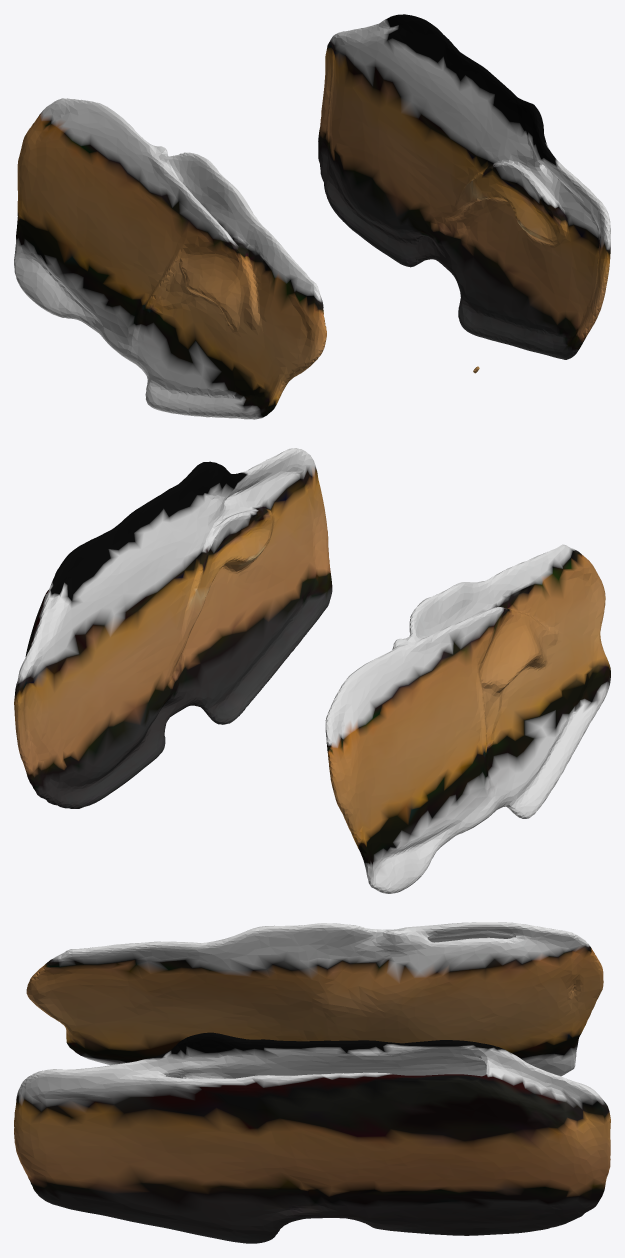
Rendered from sandals.glb.
3 views of the same model, one above another, from view 1: azimuth 30°, elevation 25°; view 2: azimuth 150°, elevation 25°; view 3: azimuth 270°, elevation 25° (orthographic). The views are drawn at different scales.
Visible parts, largest first — view 1: geometry_0; view 2: geometry_0; view 3: geometry_0.
Part boxes in pixels (left/top/right/bottom): geometry_0: left=14, top=14, right=610, bottom=419; geometry_0: left=14, top=448, right=610, bottom=893; geometry_0: left=14, top=922, right=610, bottom=1243.
Size of the model in its own units: 0.75 by 0.4525 by 0.9973.
